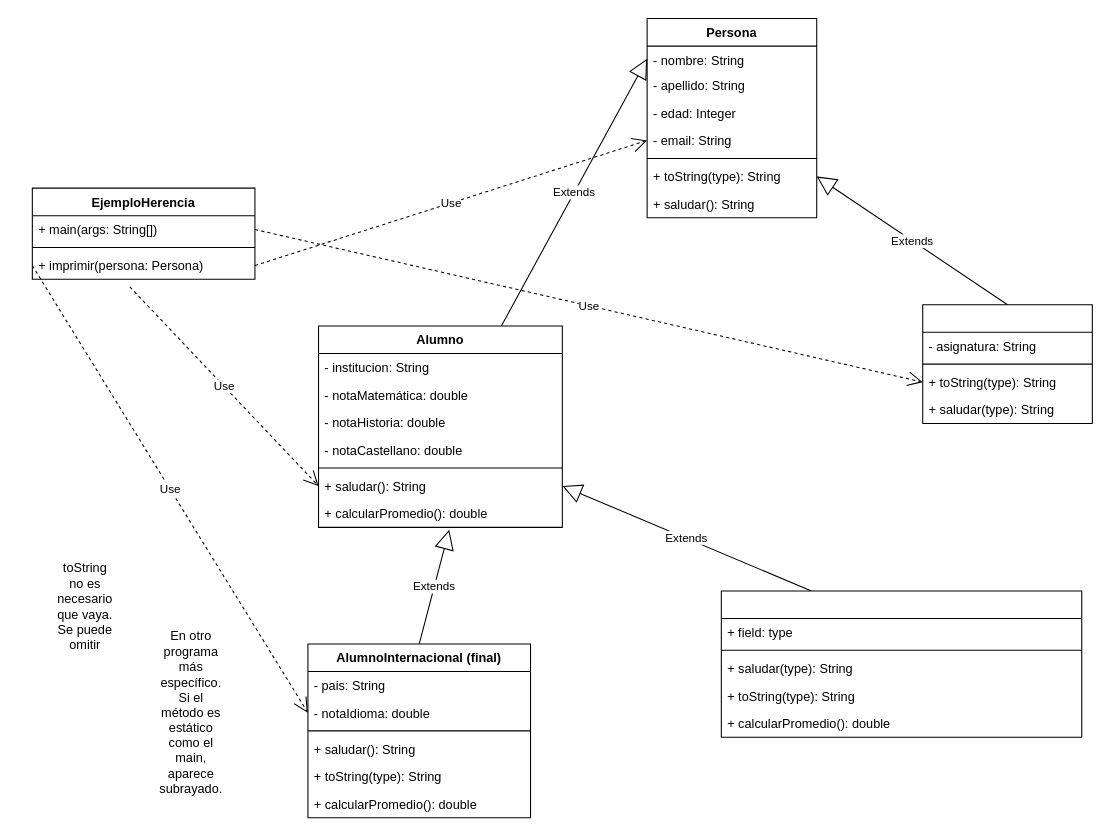
Some shapes in this 1111 by 840 pixel diagram are drawn without their labels. The shapes that lost their labels are listed below. From the top down, each one's box as (x1, y1, x2, y2) in pixels, then its label:
(922, 304, 1092, 423): Profesor
(720, 590, 1082, 737): AlumnoInternacionalDiplomático
